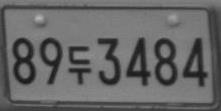3: (96, 36, 121, 86)
4: (125, 36, 152, 86), (182, 37, 208, 86)
8: (152, 36, 178, 86), (11, 36, 37, 84)
9: (38, 36, 62, 84)
두: (67, 44, 92, 85)
